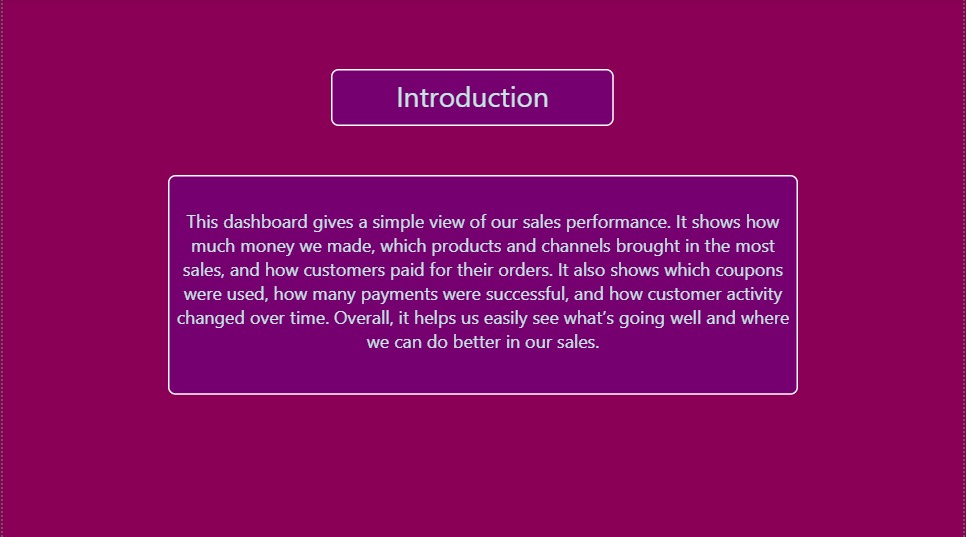

The page's visual inventory and layout, read from the dashboard file:
{"tool":"powerbi","page":{"name":"Introduction","canvas":[1280,720],"ordinal":0},"visuals":[{"type":"textbox","box":[220,236,840,293.3],"z":0},{"type":"textbox","box":[437.3,94.7,377.3,76],"z":1}]}

Visuals, with their boxes in screenshot pixels (x1, y1, x2, y2), scaled from the page's 1280x720 canvas onto the 966x537 screenshot:
textbox: pyautogui.locateOnScreen(166, 176, 800, 395)
textbox: pyautogui.locateOnScreen(330, 71, 615, 127)
